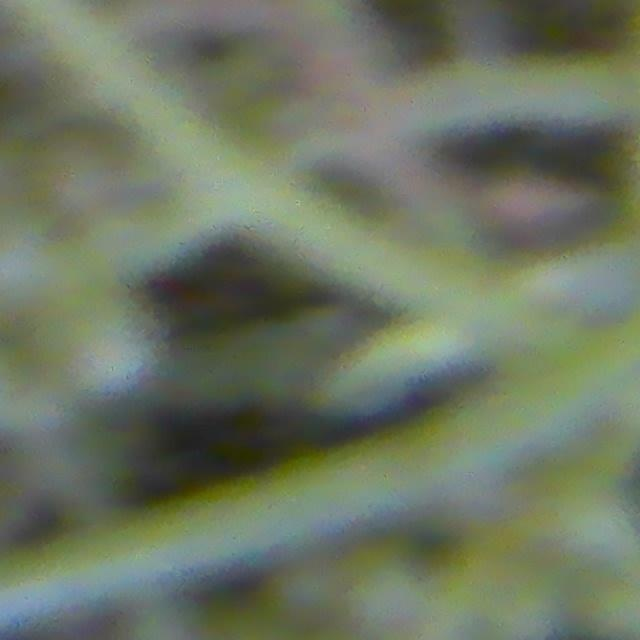SeaGrape: (35, 288, 154, 398), (19, 130, 131, 244)
